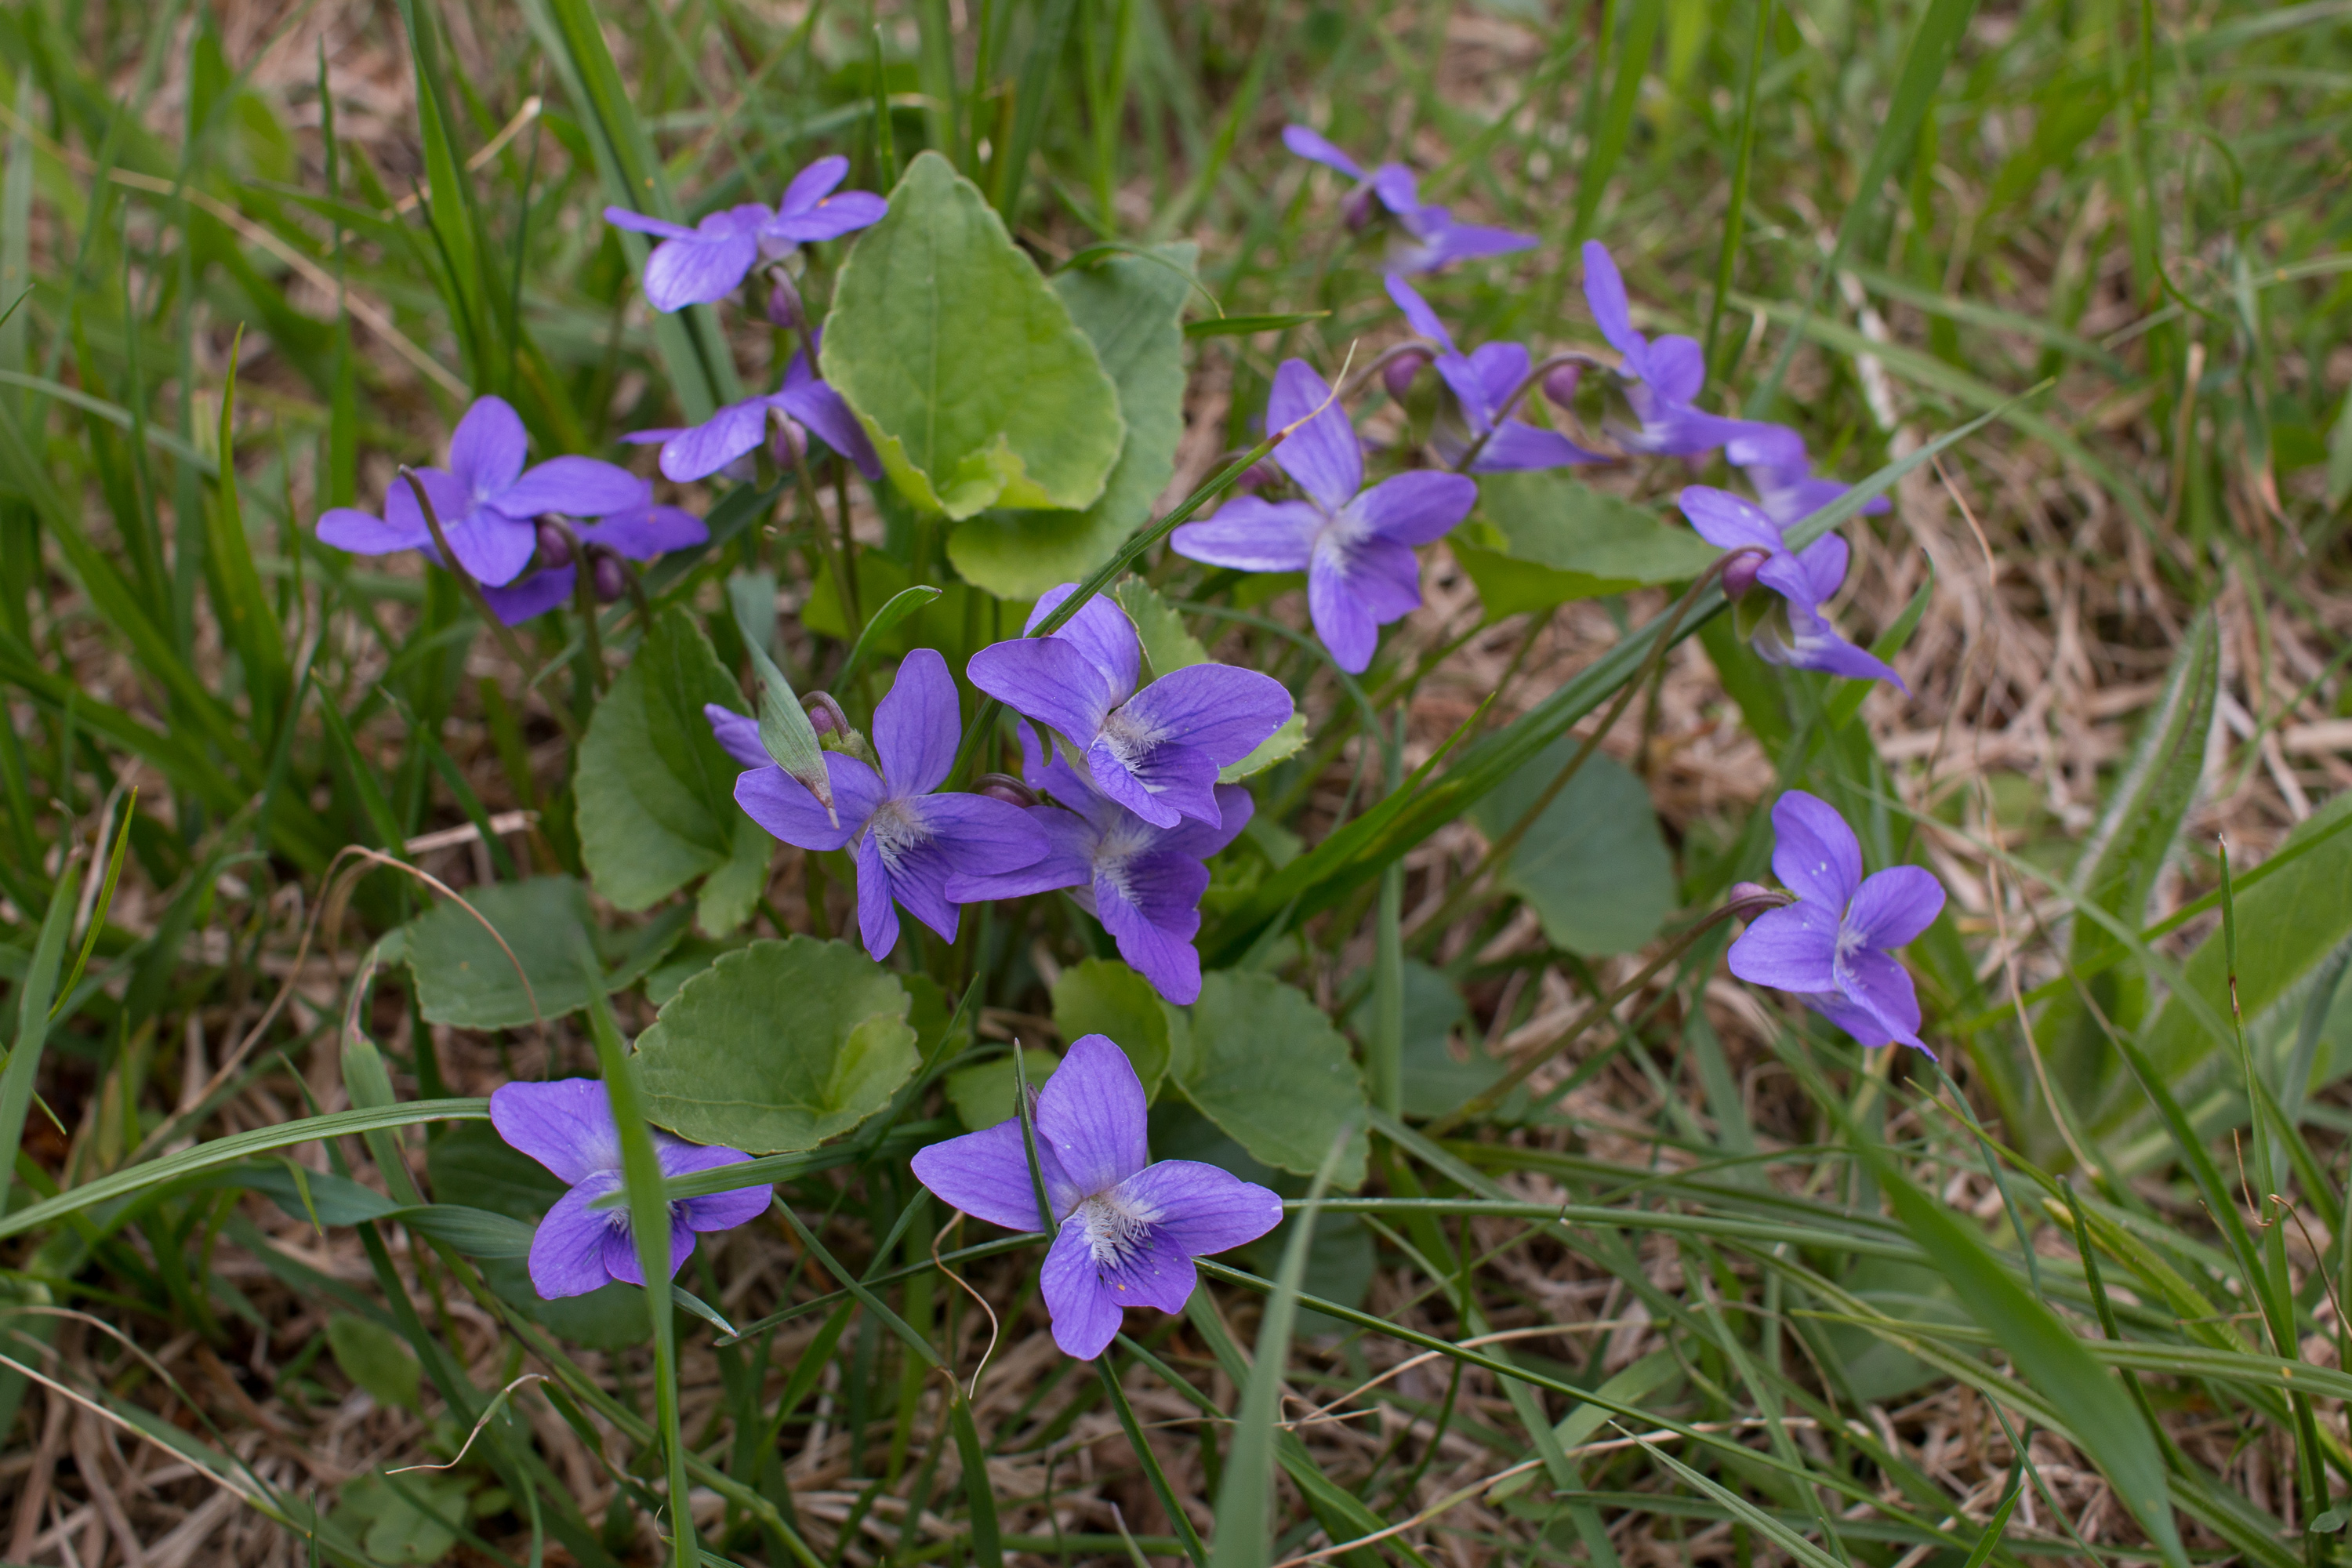violet: (910, 1031, 1284, 1351), (1195, 346, 1459, 646), (730, 681, 1003, 945), (989, 789, 1272, 1017), (943, 609, 1249, 812), (1685, 474, 1913, 747), (1734, 798, 1960, 1057), (327, 392, 625, 574), (618, 166, 892, 297), (647, 357, 872, 497)
